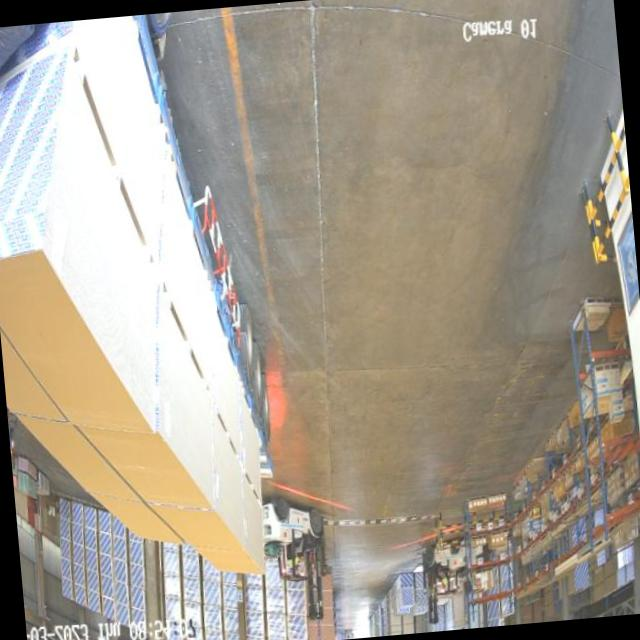driver: (287, 540, 306, 572), (436, 570, 449, 592)
forklift: (258, 492, 332, 588), (421, 538, 471, 605)
person: (8, 433, 18, 464)
